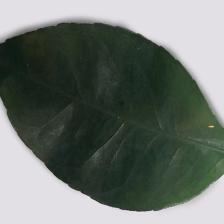healthy: (9, 38, 224, 216)
